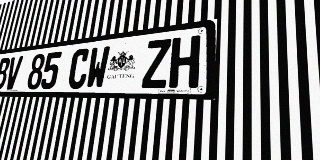5: (40, 51, 62, 89)
8: (26, 53, 47, 89)
B: (0, 57, 11, 90)
C: (67, 48, 91, 89)
H: (168, 35, 201, 88)
V: (4, 56, 23, 90)
W: (85, 46, 111, 89)
Z: (141, 38, 171, 88)
